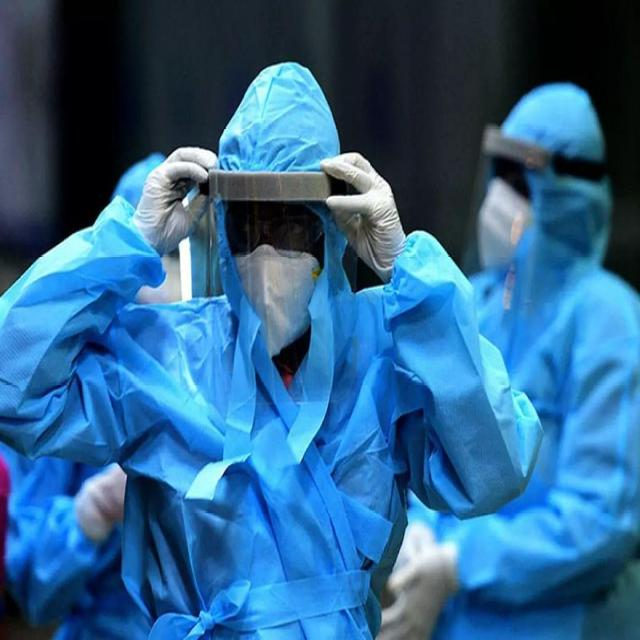Coverall: (2, 49, 457, 612), (423, 20, 617, 607)
Gloves: (126, 120, 224, 262), (327, 154, 404, 277)
Goggles: (214, 193, 326, 246)
Mask: (217, 234, 331, 374), (455, 171, 545, 290)
